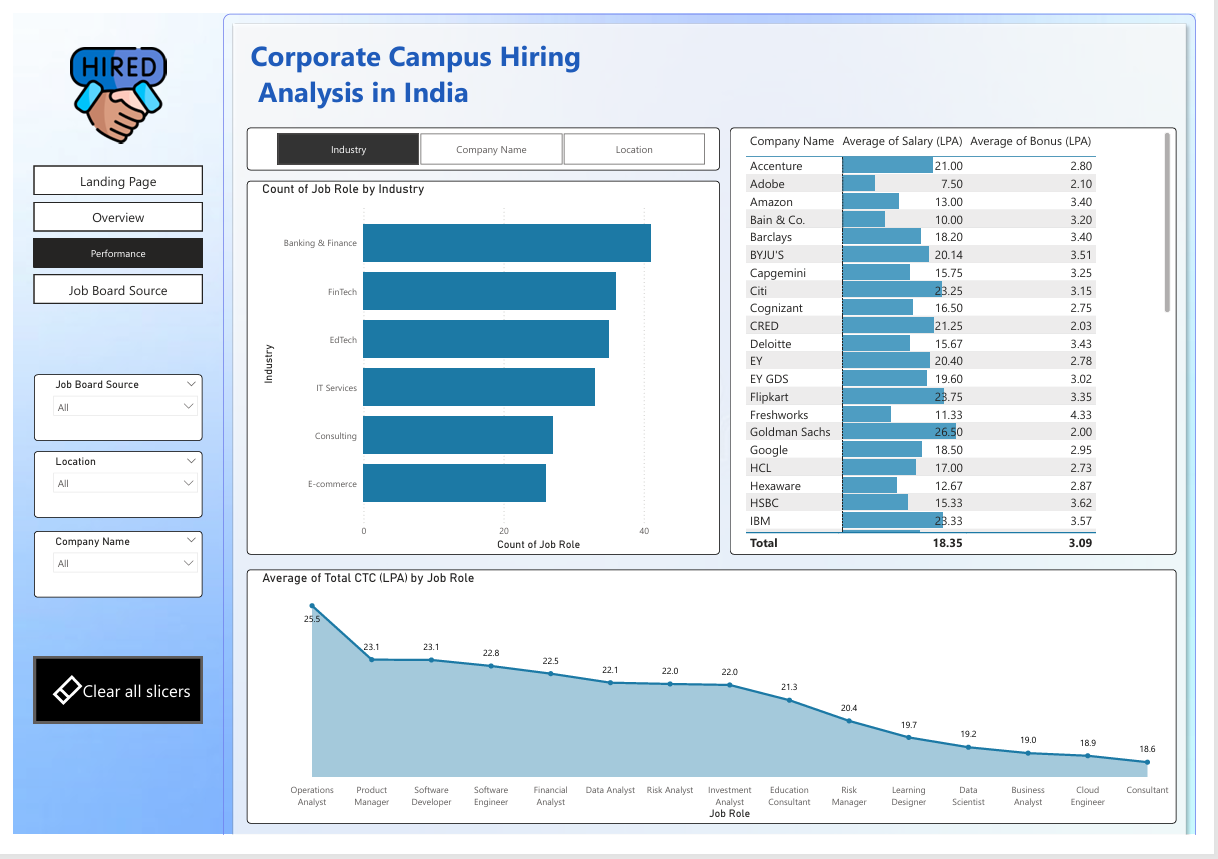

Layout of this report page (visuals, bound fields, positions):
{"tool":"powerbi","page":{"name":"Performance","canvas":[1600,1111],"ordinal":4},"visuals":[{"type":"shape","box":[284,0,1316,1400],"z":0},{"type":"barChart","fields":{"Category":["Sheet1.Industry"],"Y":["CountNonNull(Sheet1.Job Role)"]},"box":[316,226,640,506],"z":1000},{"type":"slicer","fields":{"Values":["Parameter.Parameter"]},"box":[316,154,640,58],"z":2000},{"type":"areaChart","fields":{"Category":["Sheet1.Job Role"],"Y":["Avg(Sheet1.Total CTC (LPA))"]},"box":[316,752,1258,344],"z":3000},{"type":"tableEx","fields":{"Values":["Sheet1.Company Name","Avg(Sheet1.Salary (LPA))","Avg(Sheet1.Bonus (LPA))"]},"box":[970,154,604,578],"z":4000},{"type":"textbox","box":[316,26,630,126],"z":5000},{"type":"pageNavigator","box":[28,206,228,186],"z":6000},{"type":"image","box":[28,40,228,140],"z":7000},{"type":"slicer","fields":{"Values":["Sheet1.Job Board Source"]},"box":[28,488,228,90],"z":8000},{"type":"slicer","fields":{"Values":["Sheet1.Location"]},"box":[28,592,228,90],"z":9000},{"type":"slicer","fields":{"Values":["Sheet1.Company Name"]},"box":[28,700,228,90],"z":10000},{"type":"actionButton","box":[28,870,228,90],"z":11000}]}

Visuals, with their boxes on the page's 1600x1111 design canvas (x1, y1, x2, y2). These are canvas units, not pixel positions in the 1218x859 screenshot, which may show the page scaled, cropped or inside an application window:
shape: crop(284, 0, 1600, 1400)
barChart - Sheet1.Industry x CountNonNull(Sheet1.Job Role): crop(316, 226, 956, 732)
slicer - Parameter.Parameter: crop(316, 154, 956, 212)
areaChart - Sheet1.Job Role x Avg(Sheet1.Total CTC (LPA)): crop(316, 752, 1574, 1096)
tableEx - Sheet1.Company Name x Avg(Sheet1.Salary (LPA)): crop(970, 154, 1574, 732)
textbox: crop(316, 26, 946, 152)
pageNavigator: crop(28, 206, 256, 392)
image: crop(28, 40, 256, 180)
slicer - Sheet1.Job Board Source: crop(28, 488, 256, 578)
slicer - Sheet1.Location: crop(28, 592, 256, 682)
slicer - Sheet1.Company Name: crop(28, 700, 256, 790)
actionButton: crop(28, 870, 256, 960)
